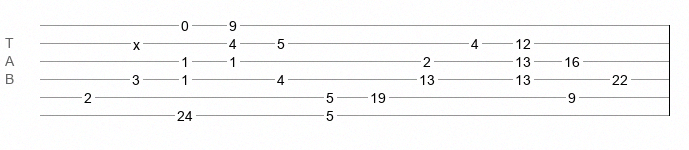0: (181, 18, 189, 28)
1: (181, 54, 189, 64), (181, 72, 189, 82), (229, 54, 237, 64)
12: (515, 36, 531, 46)
13: (419, 72, 435, 82), (515, 54, 531, 64), (515, 72, 531, 82)
16: (564, 54, 580, 64)
19: (370, 90, 386, 100)
2: (84, 90, 92, 100), (423, 54, 431, 64)
22: (612, 72, 628, 82)
24: (177, 108, 193, 118)
3: (132, 72, 140, 82)
4: (229, 36, 237, 46), (277, 72, 285, 82), (471, 36, 479, 46)
5: (277, 36, 285, 46), (326, 90, 334, 100), (326, 108, 334, 118)
9: (229, 18, 237, 28), (568, 90, 576, 100)
x: (133, 37, 140, 45)
